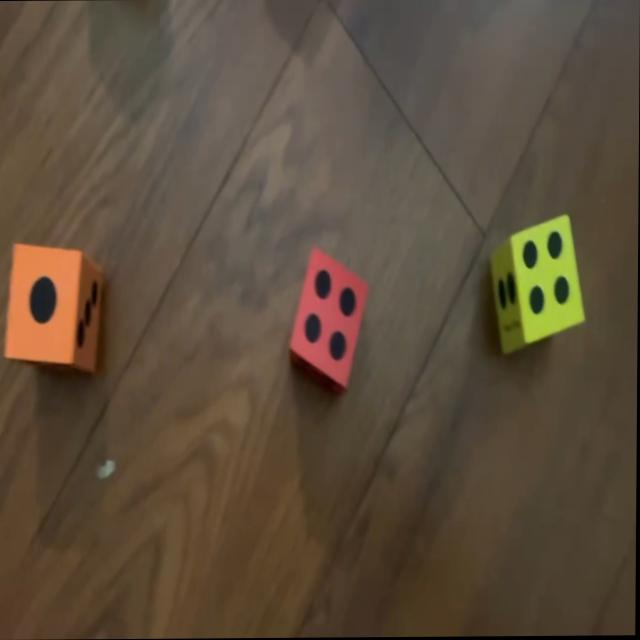red_block: (290, 248, 370, 390)
